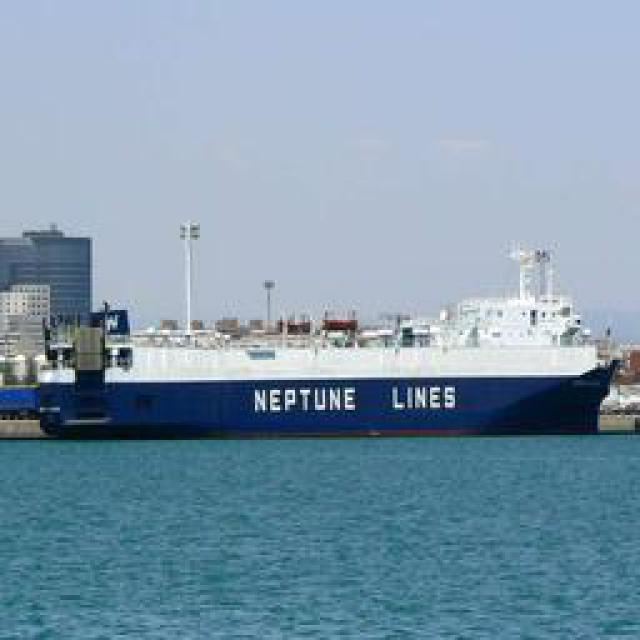Ship: (20, 238, 620, 443)
